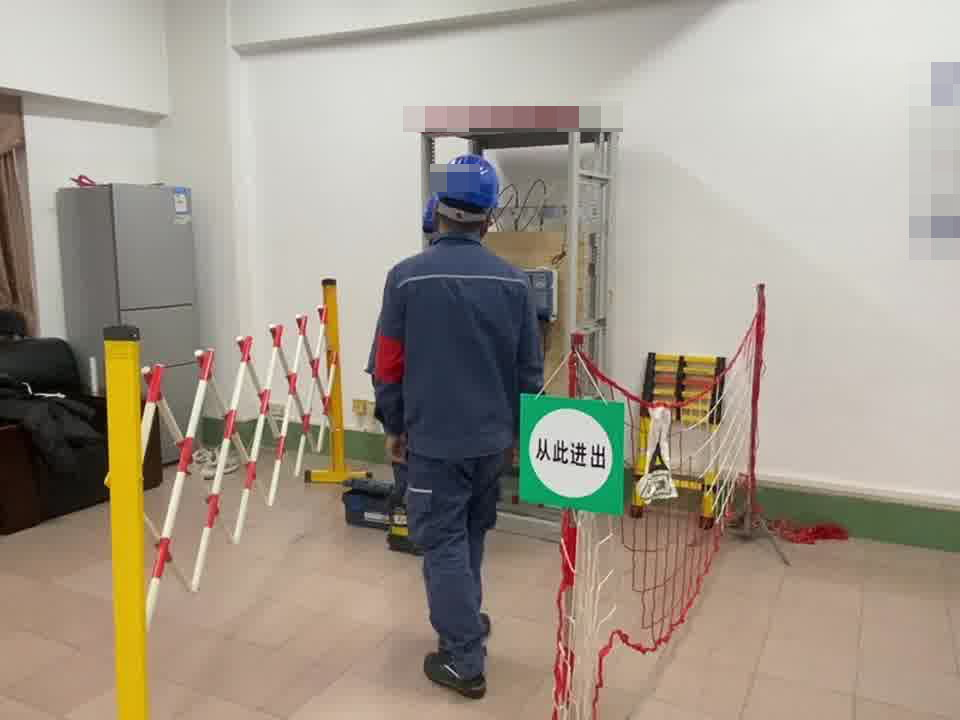badge: (372, 334, 407, 384)
downsuit: (404, 455, 509, 657)
halt: (431, 153, 505, 229)
hand: (384, 428, 409, 467)
intosign: (506, 386, 629, 517)
person: (365, 150, 547, 694)
upsuit: (369, 238, 543, 451)
